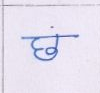anusvara: (51, 26, 53, 28)
